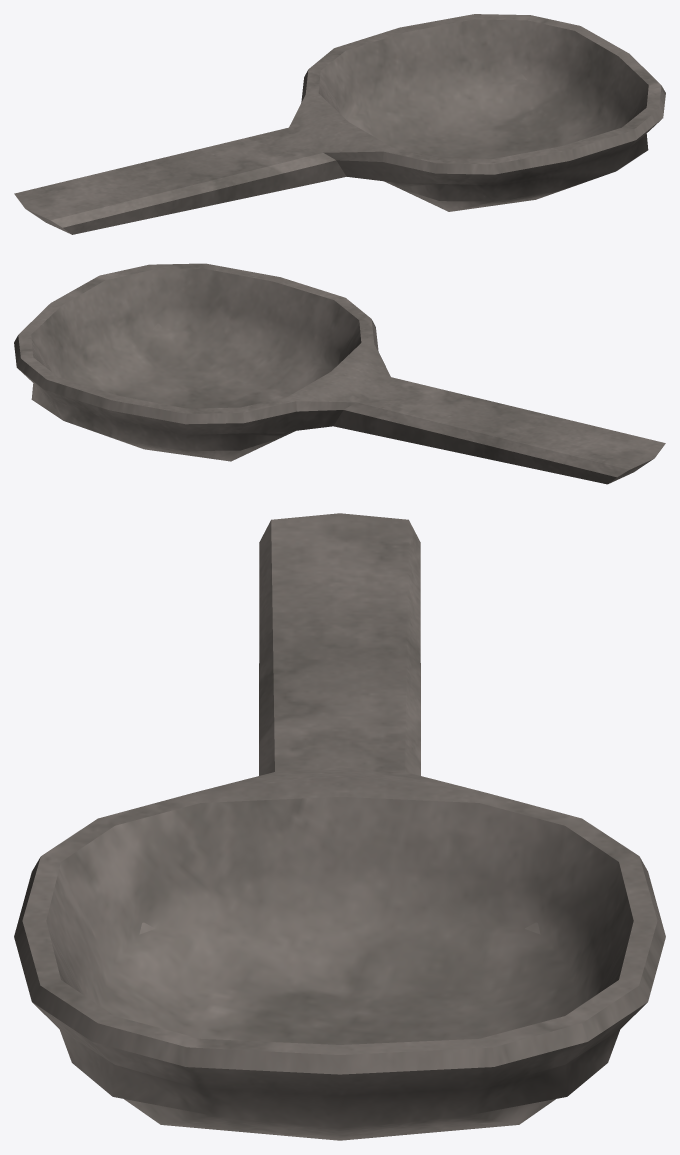
The model's file is Pan.fbx.
3 renders of one model, top to bottom at view 1: azimuth 30°, elevation 25°; view 2: azimuth 150°, elevation 25°; view 3: azimuth 270°, elevation 25°, orthographic. The views are drawn at different scales.
Parts seen in each view (by area): view 1: Pan; view 2: Pan; view 3: Pan.
Part boxes in pixels (left/top/right/bottom): Pan: left=14, top=14, right=665, bottom=234; Pan: left=14, top=263, right=665, bottom=484; Pan: left=14, top=513, right=665, bottom=1140.
Bounding box in the file's own units: 86.55 × 10.7 × 42.59.
1 material, 1 textured.
